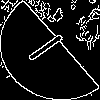I: (25, 25, 75, 65)
